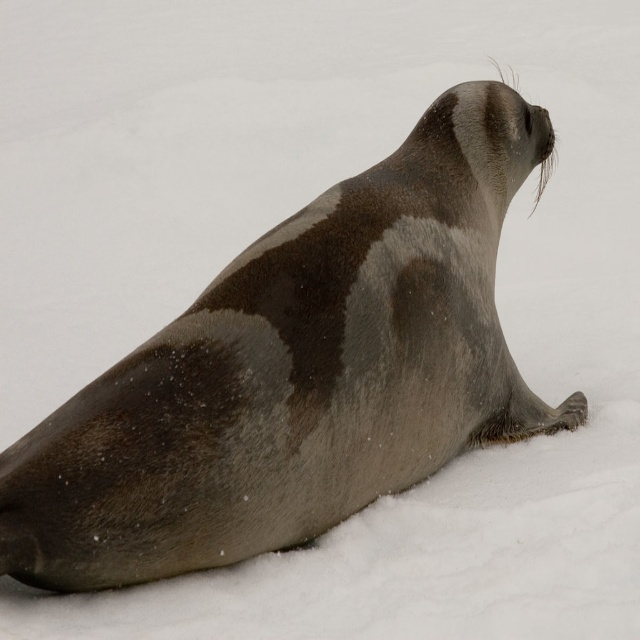Harbor seal: (0, 57, 590, 594)
